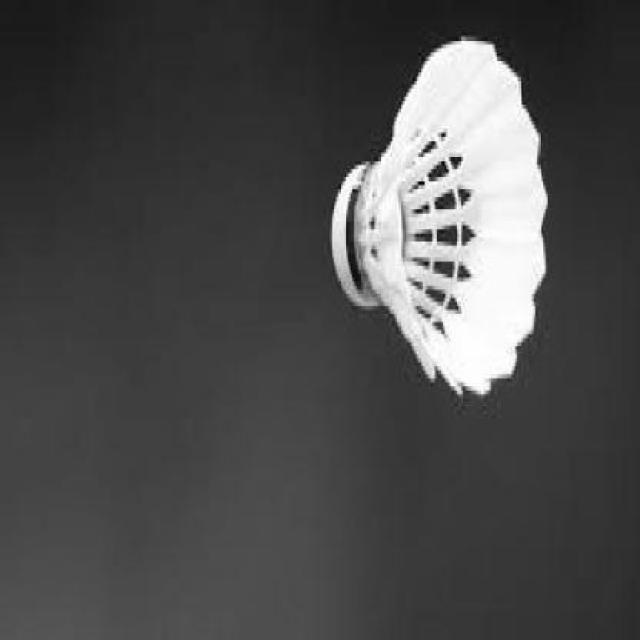Shuttlecock: (329, 32, 551, 403)
